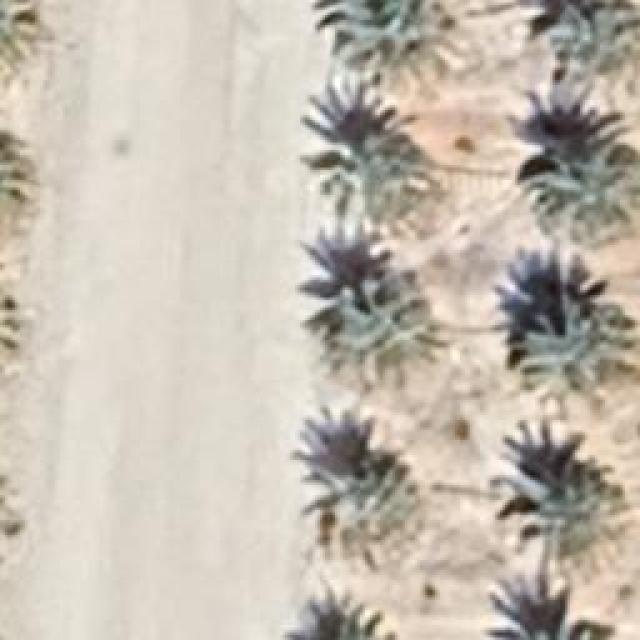PalmTree: (492, 467, 638, 595), (510, 298, 638, 420), (88, 46, 394, 92), (315, 276, 443, 379), (300, 460, 420, 552), (532, 142, 638, 240), (550, 0, 638, 110), (305, 130, 395, 235), (278, 598, 400, 638), (0, 120, 38, 238), (22, 38, 88, 77), (0, 280, 24, 376), (0, 277, 18, 379), (532, 620, 618, 638)
